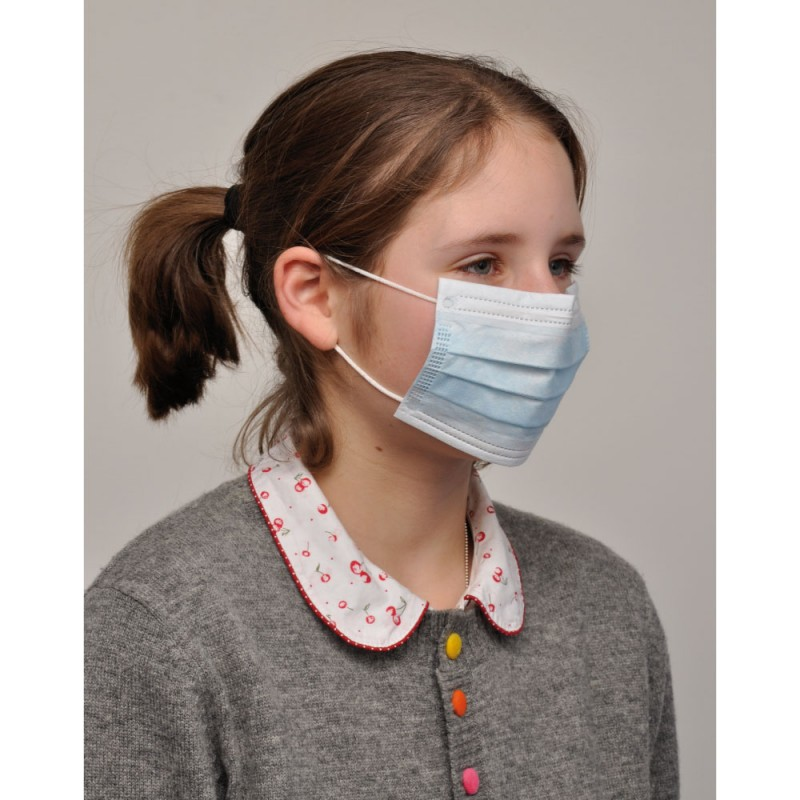surgical: (394, 266, 599, 476)
